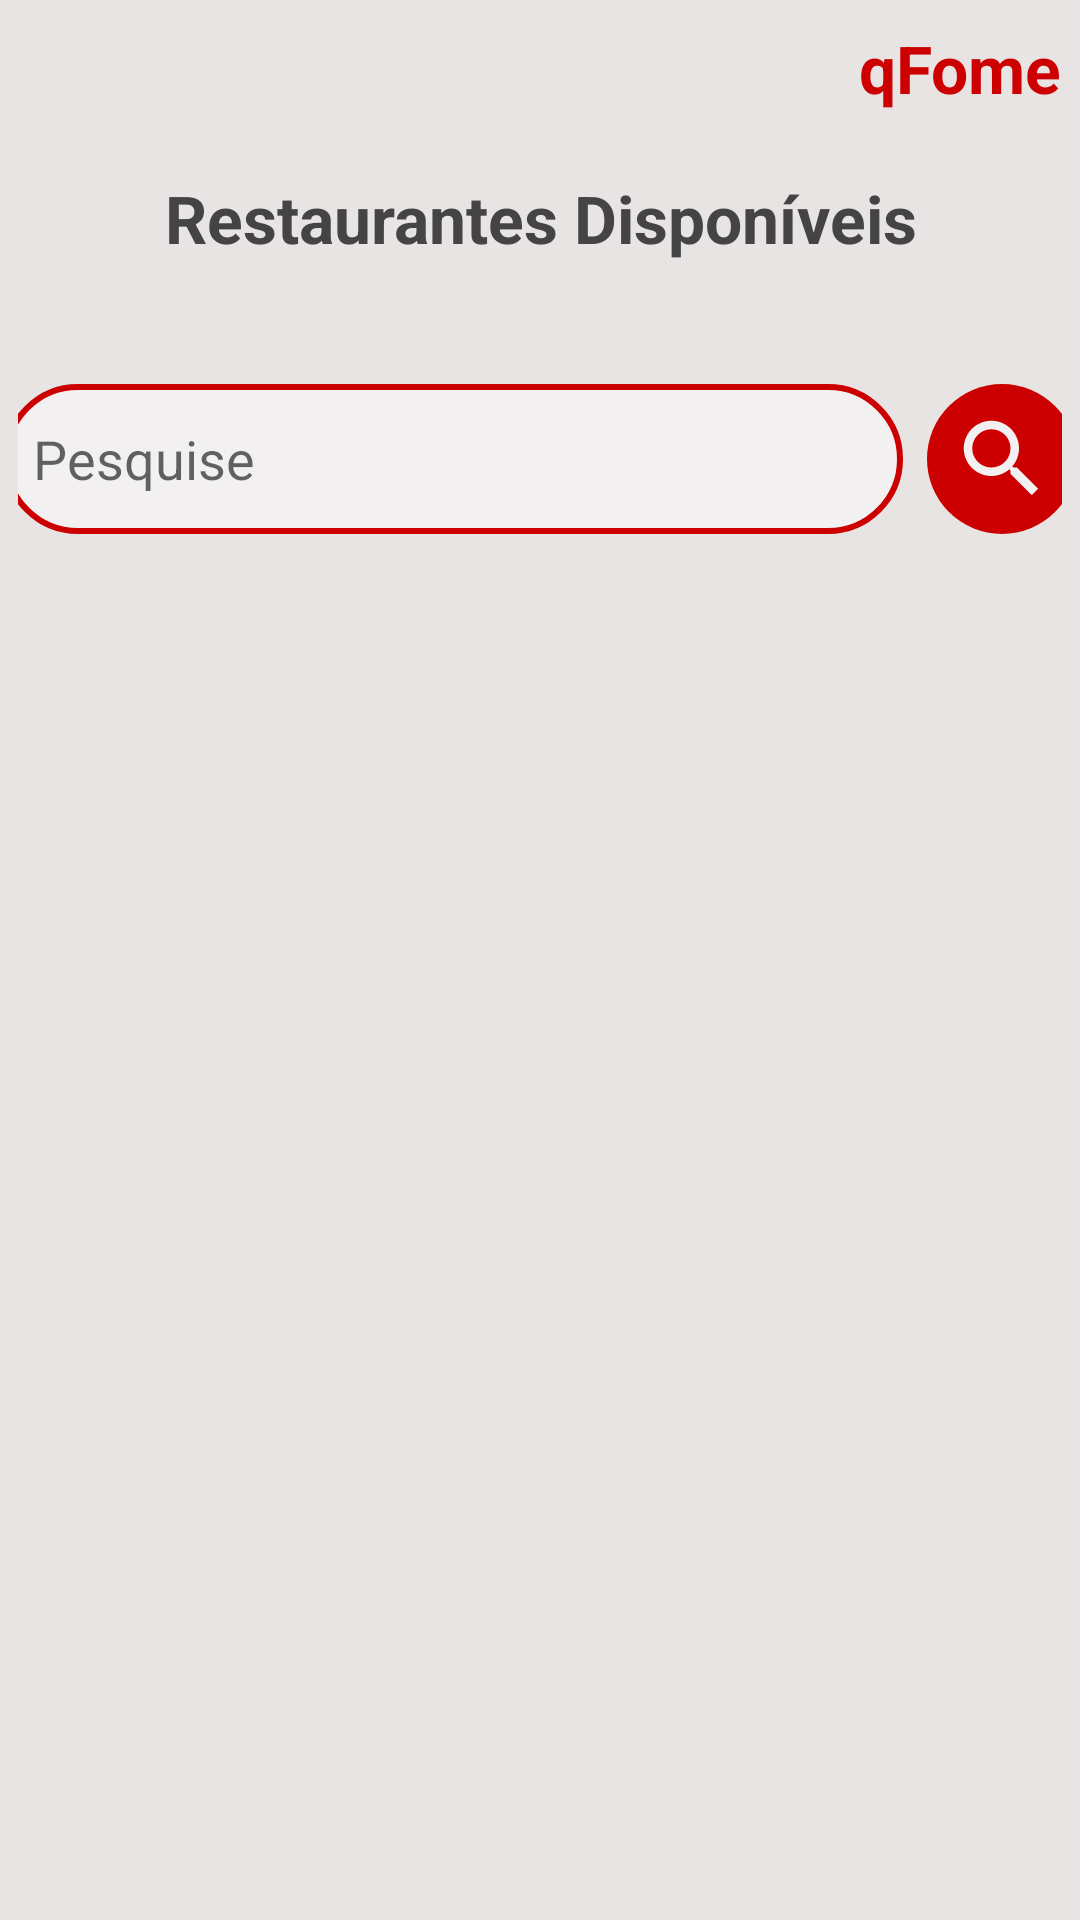

Where to tap for icons on this 1080×1920 app screen, as point (x, y):
search: point (1000, 457)
